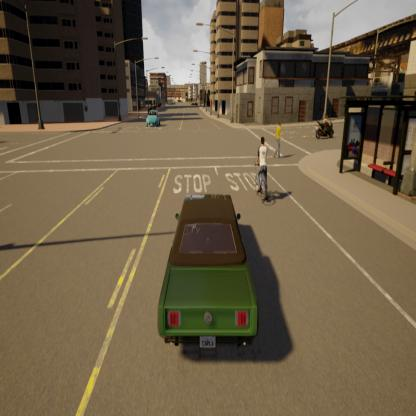Cars: (153, 182, 266, 365), (145, 107, 162, 130)
Pedestrian: (270, 116, 288, 163)
